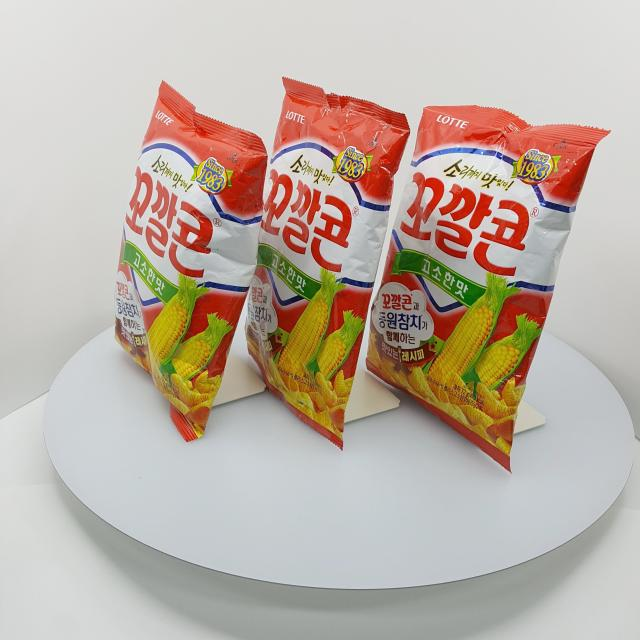-72G: (367, 105, 613, 475), (245, 77, 411, 451), (115, 80, 269, 443)
